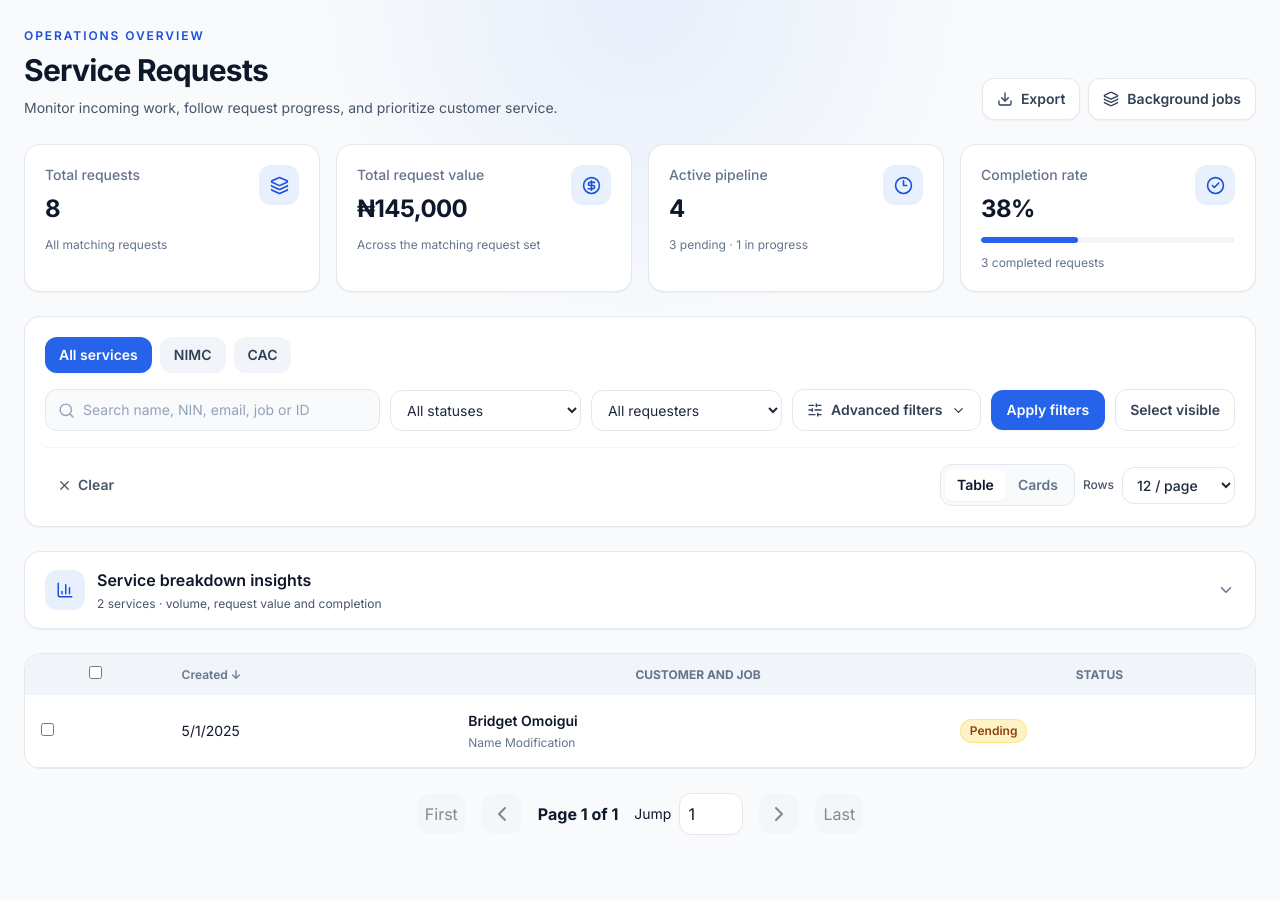
Scenario: AdminRequests › shows the metrics first and keeps service insights collapsible
Check: the heading "Service Requests" is shown, box [24,52,268,88]
Check: the element named "Request metrics" is shown, box [24,144,1256,292]
Step 1. Click the button "Service breakdown insights" → (65, 590), box [25,552,1255,628]
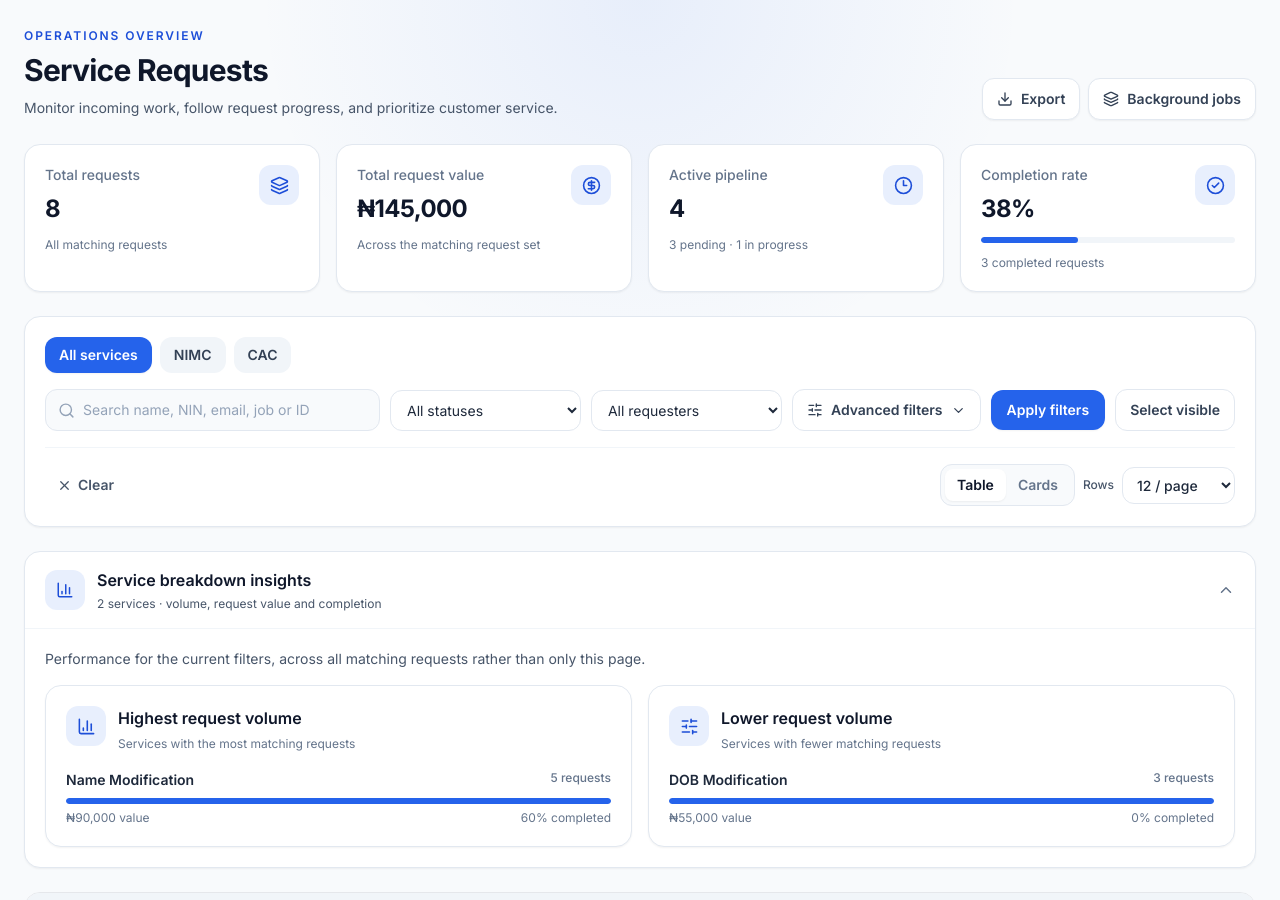
Check: the heading "Highest request volume" is shown, box [118,708,302,728]
Check: the heading "Lower request volume" is shown, box [721,708,892,728]
Check: the text "Name Modification" is shown, box [66,770,194,790]
Step 2. Click the button "Advanced filters" → (886, 410), box [792,389,980,431]
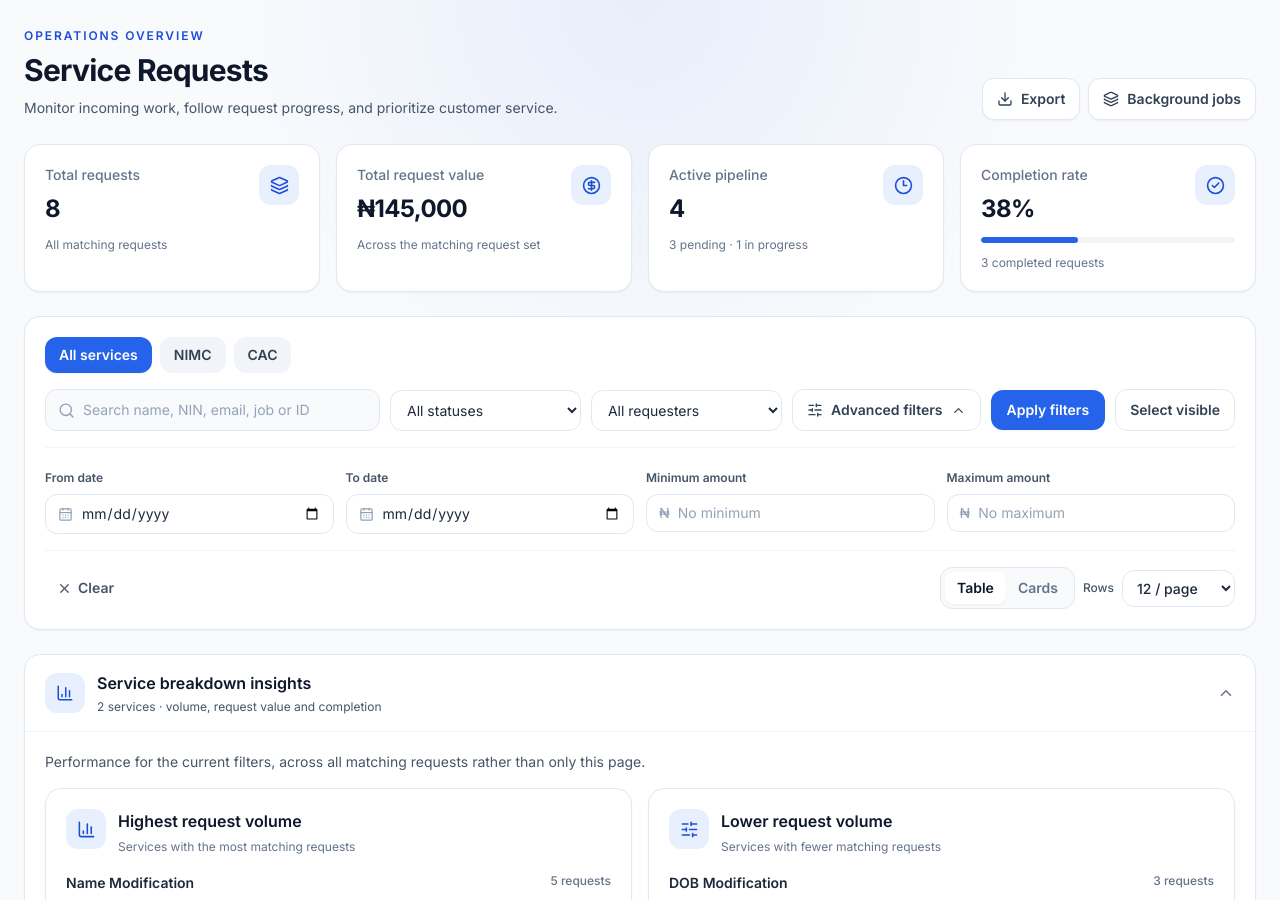
Check: the date field labelled "From date" is shown, box [81,495,320,533]
Check: the number field labelled "Maximum amount" is shown, box [978,495,1222,531]
